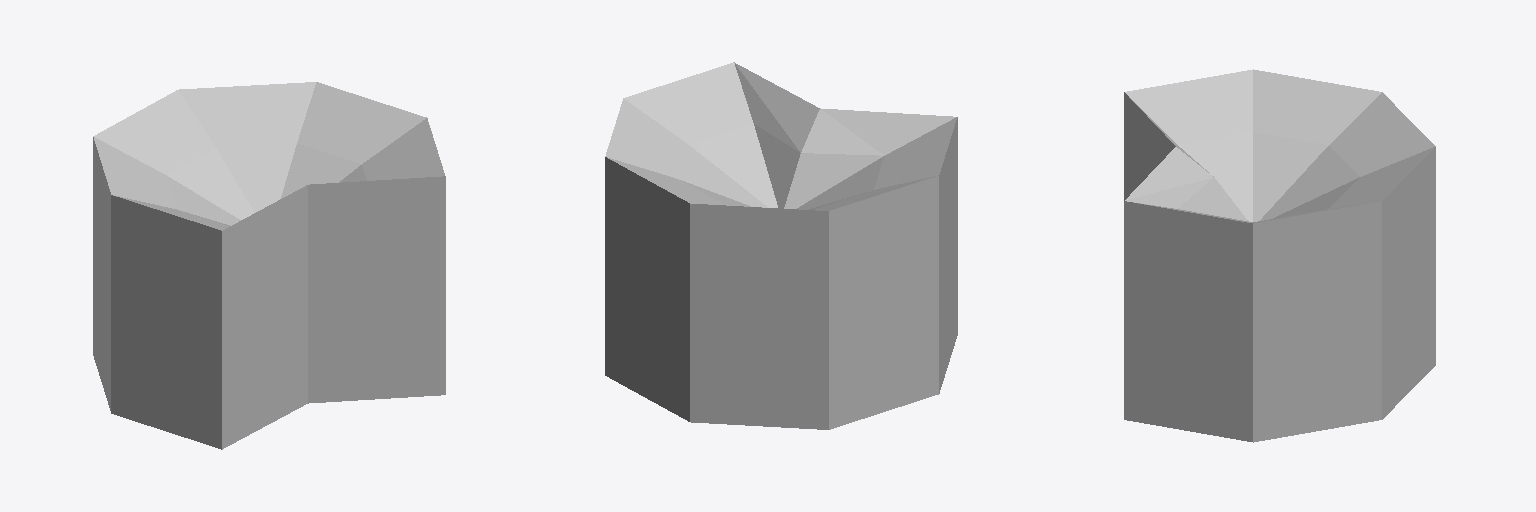
Rendered from concave_mesh.obj.
3 renders of one model, left to right at view 1: azimuth 30°, elevation 25°; view 2: azimuth 150°, elevation 25°; view 3: azimuth 270°, elevation 25°, orthographic.
Visible parts, largest first — view 1: Concav; view 2: Concav; view 3: Concav.
Part boxes in pixels (bbox=[...]): Concav: bbox=[93, 82, 445, 449]; Concav: bbox=[605, 62, 957, 429]; Concav: bbox=[1124, 69, 1435, 442].
Bounding box in the file's own units: 29.05 × 19.24 × 24.8.